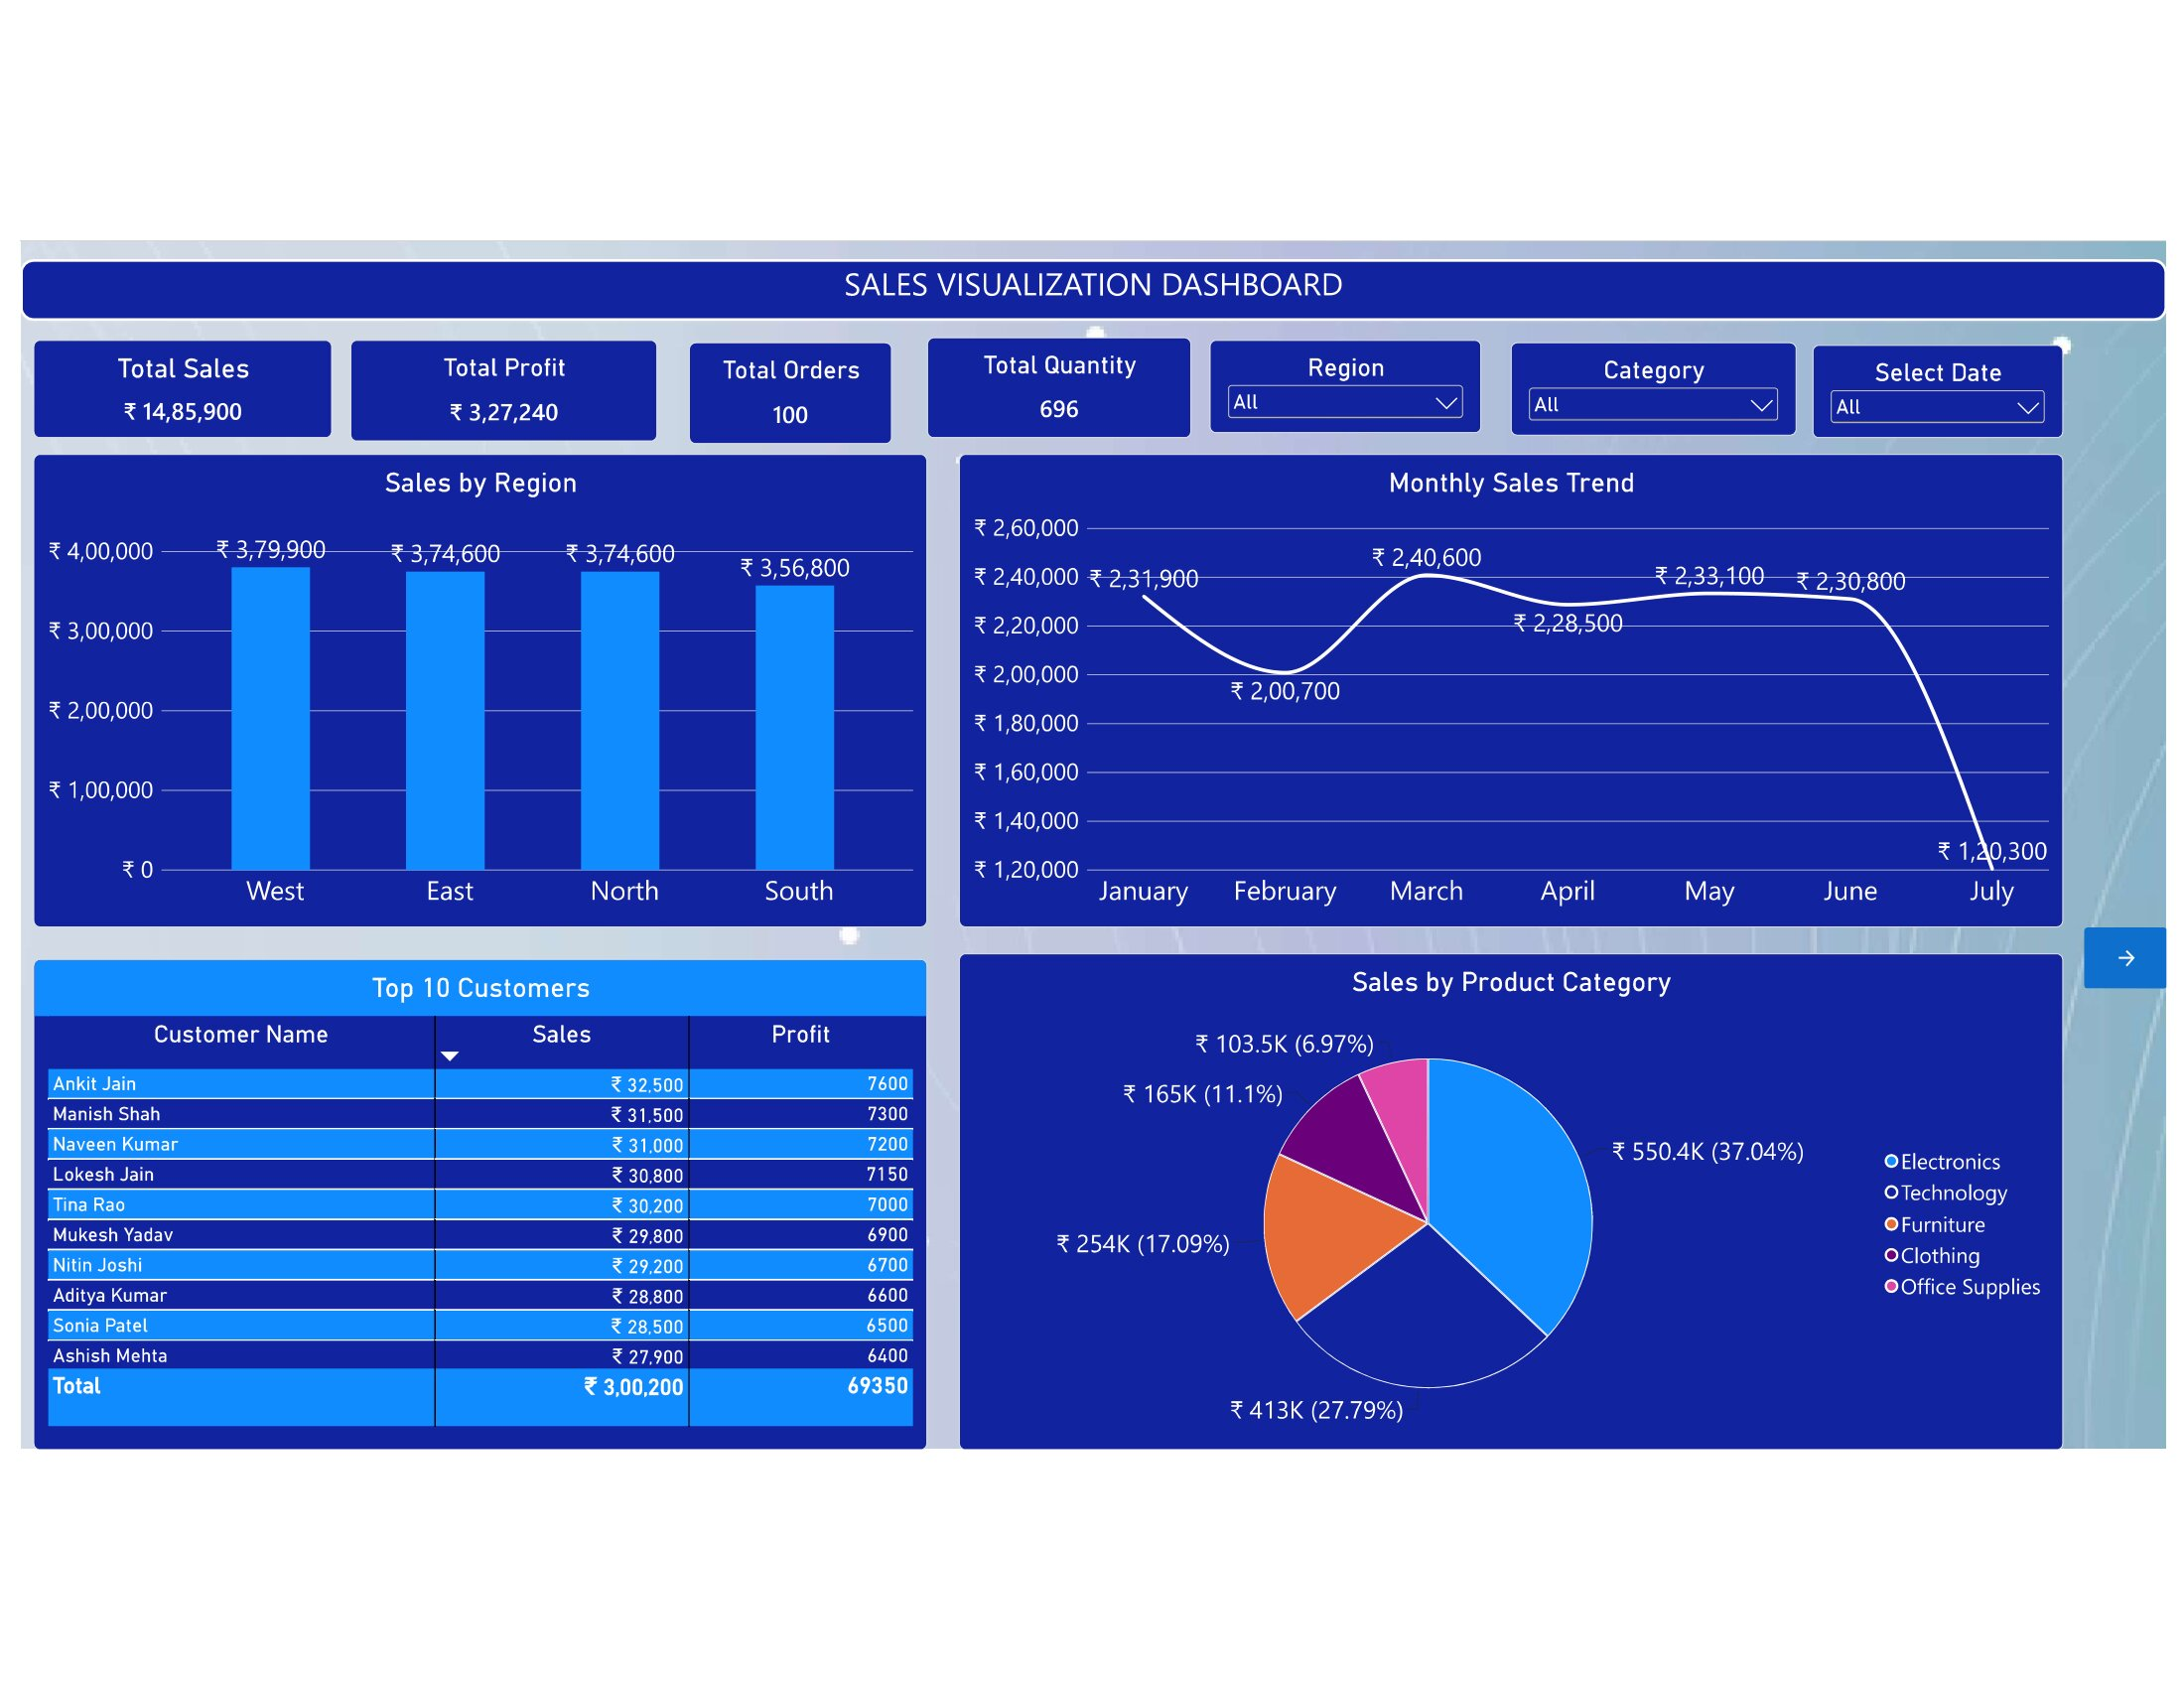

The page's visual inventory and layout, read from the dashboard file:
{"tool":"powerbi","page":{"name":"Main_Page","canvas":[2560,1440],"ordinal":0},"visuals":[{"type":"textbox","box":[0,22.3,2560.9,73.2],"z":0},{"type":"kpi","title":"Total Sales","fields":{"Indicator":["Sum(Superstore Sales.Sales)"],"TrendLine":["Superstore Sales.OrderDate.Variation.Date Hierarchy.Year"]},"box":[15.9,117.7,356.3,117.7],"z":1000},{"type":"kpi","title":"Total Profit","fields":{"Indicator":["Sum(Superstore Sales.Profit)"],"TrendLine":["Superstore Sales.OrderDate.Variation.Date Hierarchy.Year"]},"box":[394.5,117.7,365.8,120.9],"z":2000},{"type":"kpi","title":"Total Orders","fields":{"Indicator":["CountNonNull(Superstore Sales.OrderID)"],"TrendLine":["Superstore Sales.OrderDate.Variation.Date Hierarchy.Year"]},"box":[798.5,120.9,241.8,120.9],"z":3000},{"type":"slicer","title":"Region","fields":{"Values":["Superstore Sales.Region"]},"box":[1418.8,117.7,324.5,111.3],"z":4000},{"type":"slicer","title":"Category","fields":{"Values":["Superstore Sales.Product Category"]},"box":[1778.3,120.9,340.4,111.3],"z":5000},{"type":"slicer","title":"Select Date","fields":{"Values":["Superstore Sales.OrderDate.Variation.Date Hierarchy.Year","Superstore Sales.OrderDate.Variation.Date Hierarchy.Month","Superstore Sales.OrderDate.Variation.Date Hierarchy.Day"]},"box":[2137.8,124.1,299,111.3],"z":6000},{"type":"columnChart","title":"Sales by Region","fields":{"Category":["Superstore Sales.Region"],"Y":["Sum(Superstore Sales.Sales)"]},"box":[15.9,254.5,1065.7,563.1],"z":7000},{"type":"lineChart","title":"Monthly Sales Trend","fields":{"Category":["Superstore Sales.OrderDate.Variation.Date Hierarchy.Month"],"Y":["Sum(Superstore Sales.Sales)"]},"box":[1119.8,254.5,1317,563.1],"z":8000},{"type":"pieChart","title":"Sales by Product Category","fields":{"Category":["Superstore Sales.Product Category"],"Y":["Sum(Superstore Sales.Sales)"]},"box":[1119.8,849.4,1317,591.7],"z":9000},{"type":"tableEx","title":"Top 10 Customers","fields":{"Values":["Superstore Sales.Customer Name","Sum(Superstore Sales.Sales)","Sum(Superstore Sales.Profit)"]},"box":[15.9,855.7,1065.7,585.3],"z":10000},{"type":"actionButton","box":[2462.3,817.6,98.6,73.2],"z":11000},{"type":"kpi","title":"Total Quantity","fields":{"Indicator":["Sum(Superstore Sales.Quantity)"],"TrendLine":["Superstore Sales.OrderDate.Variation.Date Hierarchy.Year"]},"box":[1081.6,114.5,314.9,120.9],"z":11001}]}

Visuals, with their boxes in screenshot pixels (x1, y1, x2, y2):
textbox: bbox=[11, 252, 2166, 314]
"Total Sales" kpi: bbox=[25, 333, 325, 431]
"Total Profit" kpi: bbox=[343, 333, 651, 434]
"Total Orders" kpi: bbox=[683, 335, 887, 437]
"Region" slicer: bbox=[1205, 333, 1478, 426]
"Category" slicer: bbox=[1508, 335, 1794, 429]
"Select Date" slicer: bbox=[1810, 338, 2062, 431]
"Sales by Region" columnChart: bbox=[25, 448, 921, 921]
"Monthly Sales Trend" lineChart: bbox=[953, 448, 2062, 921]
"Sales by Product Category" pieChart: bbox=[953, 948, 2062, 1446]
"Top 10 Customers" tableEx: bbox=[25, 953, 921, 1446]
actionButton: bbox=[2083, 921, 2166, 983]
"Total Quantity" kpi: bbox=[921, 330, 1186, 431]
